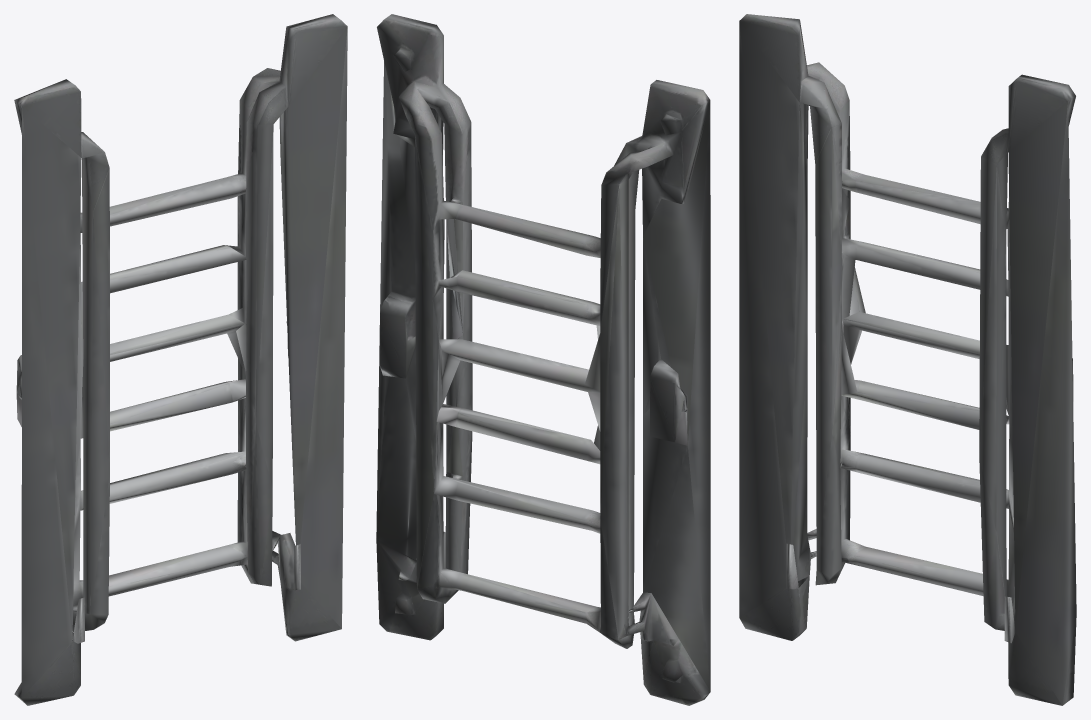
3 views of the same model, side by side, from view 1: azimuth 30°, elevation 25°; view 2: azimuth 150°, elevation 25°; view 3: azimuth 330°, elevation 25° (orthographic).
Bounding box in the file's own units: 1.06 × 1.89 × 0.2019.
Materials: 1 (1 with a texture image).
